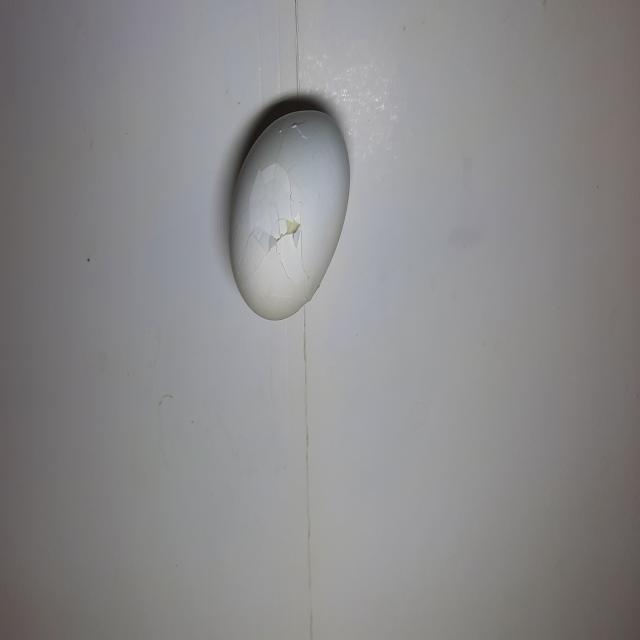egg shell: (228, 104, 352, 324)
